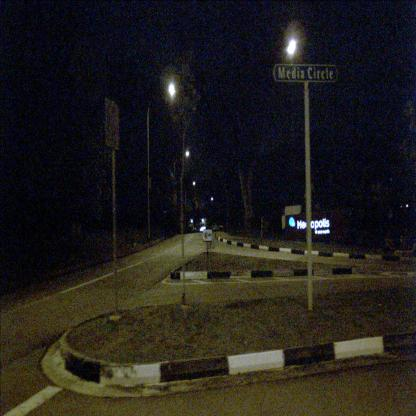vehicle-car: (188, 209, 207, 233)
